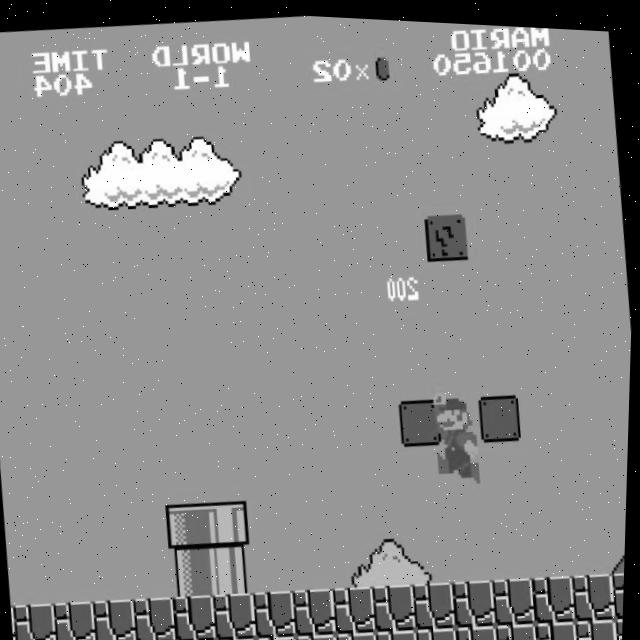0- big_mario: (432, 381, 488, 481)
13- mystery_block: (424, 207, 470, 258)
14- pipe: (210, 542, 258, 594), (170, 544, 218, 596)
15- pipe_head: (207, 496, 254, 548), (167, 499, 214, 551)
17- undestructible_block: (453, 572, 501, 624), (413, 575, 461, 627), (573, 564, 620, 616), (533, 567, 580, 619), (493, 570, 540, 622), (374, 577, 421, 629), (334, 580, 381, 632), (254, 585, 301, 637), (214, 587, 261, 639), (294, 583, 341, 634), (174, 590, 221, 640), (134, 593, 181, 640), (94, 594, 141, 640), (54, 598, 101, 640), (15, 600, 62, 640), (578, 610, 621, 639), (538, 612, 581, 640), (498, 615, 541, 640), (458, 618, 502, 640), (418, 620, 461, 640), (613, 562, 628, 612), (378, 623, 422, 640), (338, 625, 382, 640), (298, 628, 342, 640), (258, 630, 302, 640), (13, 604, 22, 640), (219, 633, 262, 640), (618, 608, 626, 635), (179, 635, 222, 640), (139, 638, 182, 640)
3- empty_block: (478, 387, 525, 439), (399, 392, 446, 444)
